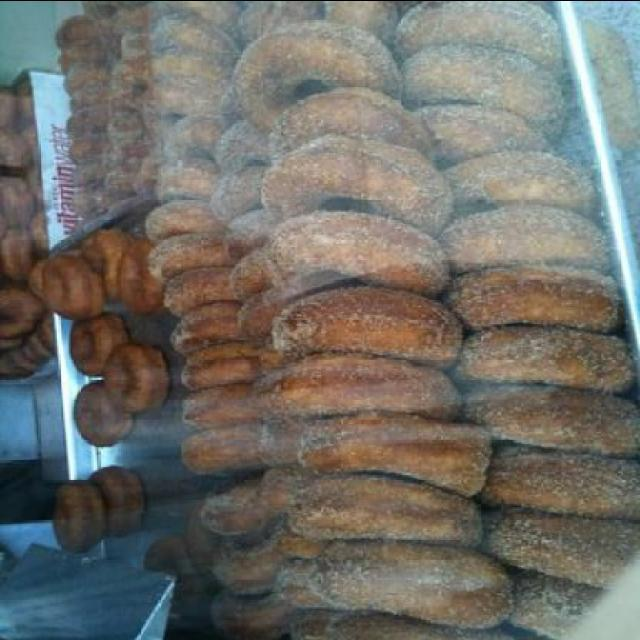Donuts: (1, 1, 638, 630)
